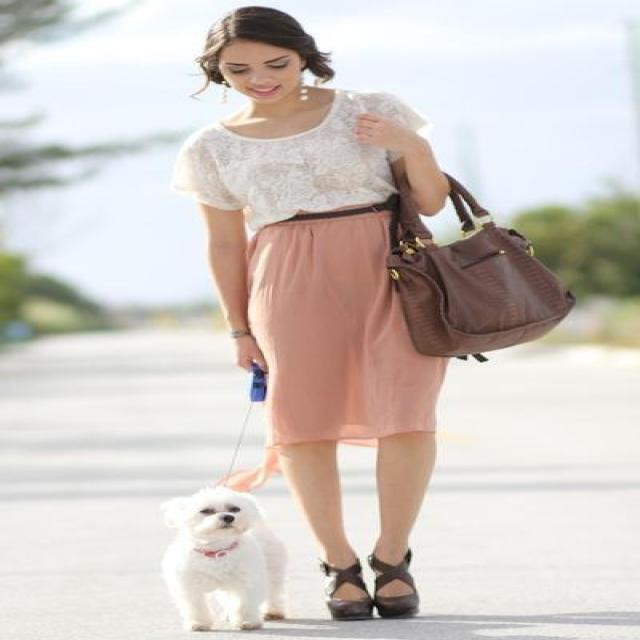bag: (386, 212, 572, 362)
shirt: (188, 90, 422, 240)
shoe: (332, 576, 402, 620)
skirt: (218, 202, 450, 492)
